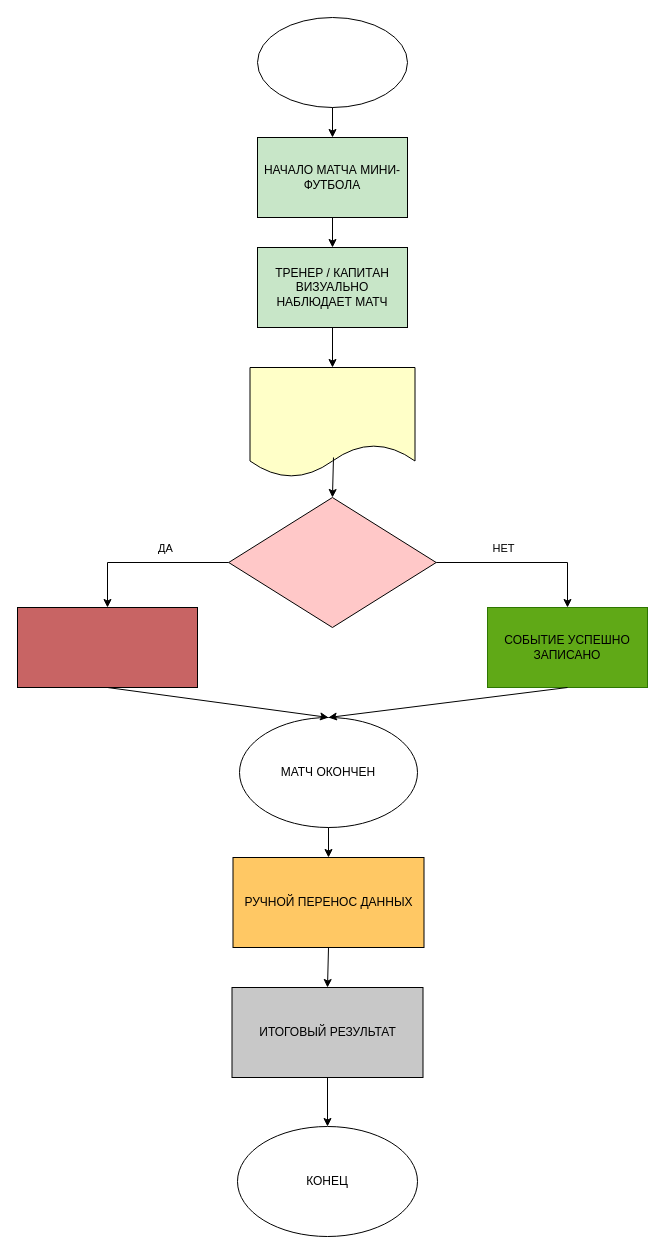
Image size: 665x1254. Some labels were removed from this diagram. Here are the shapes that lost their labels. From the top down, the box of each, then its label:
(256, 16, 408, 108): НАЧАЛО
(249, 366, 415, 478): РУЧНАЯ ФИКСАЦИЯ СОБЫТИЙ В БУМАЖНЫЙ НОСИТЕЛЬ
(228, 496, 436, 628): ПРОБЛЕМА ОТВЛЕЧЕНИЯ ВНИМАНИЯ?
(16, 606, 198, 688): ПРОПУЩЕНО СОБЫТИЕ
